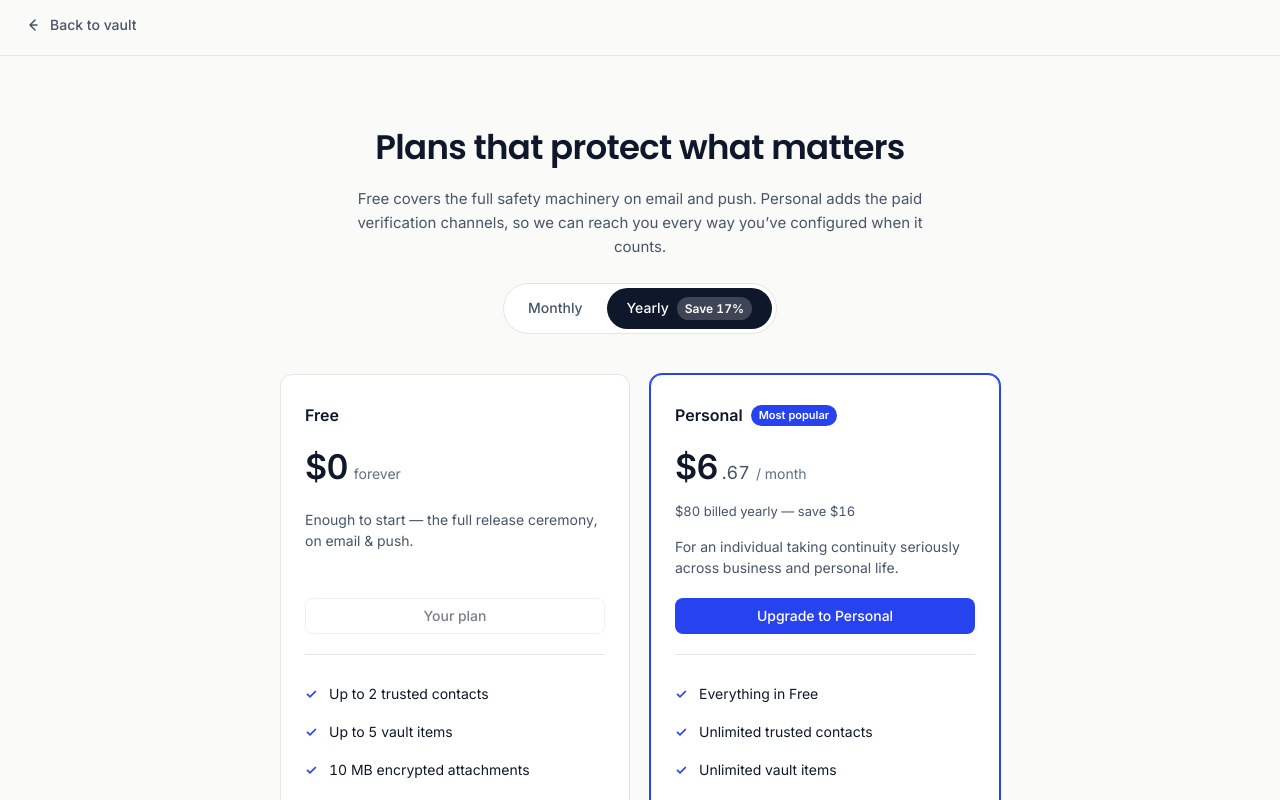
Test: Upgrade page › switching to Monthly shows the monthly rate
Click the button "Monthly": coordinates (555, 308) [508,288,602,329]
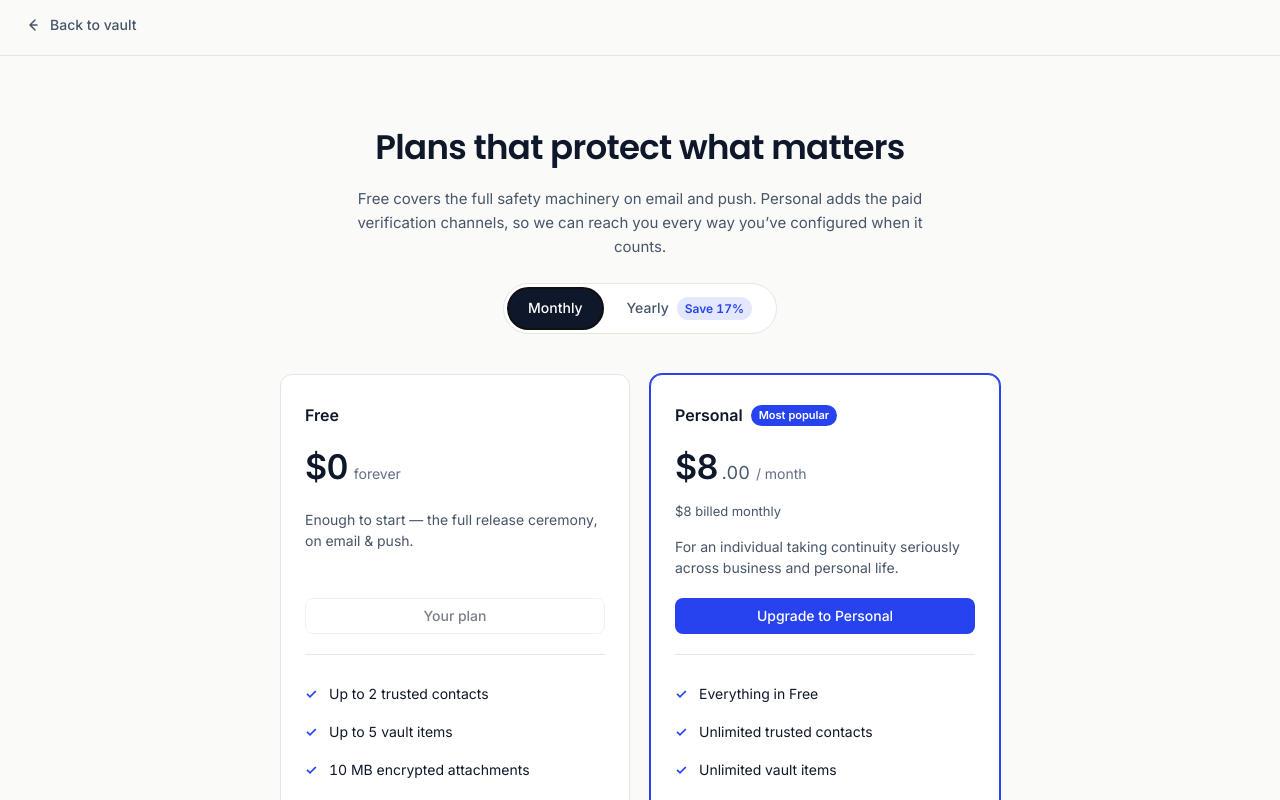
Check: the text "$8" is shown, box [675,440,718,495]
Check: the text with test id "upgrade-personal-sub" reads "$8 billed monthly", box [675,503,781,519]
